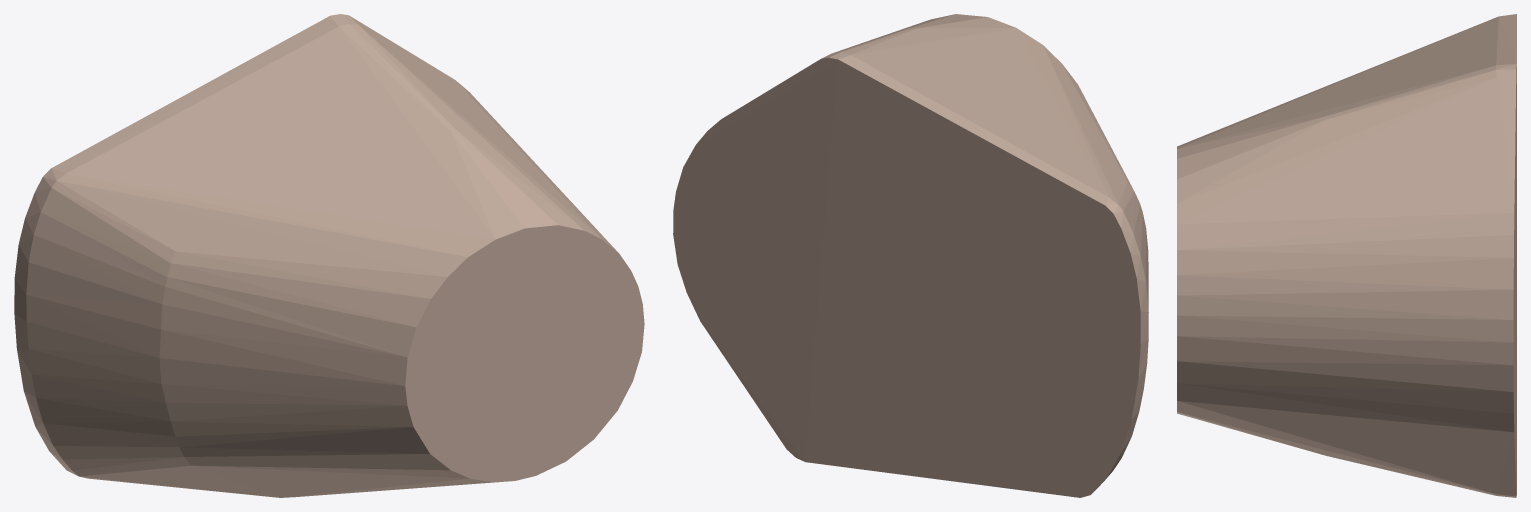
File: dualpanda_Panda_leftArm_coll_1.dae
3 views of the same model, side by side, from view 1: azimuth 30°, elevation 25°; view 2: azimuth 150°, elevation 25°; view 3: azimuth 270°, elevation 25° (orthographic). The views are drawn at different scales.
Visible parts, largest first — view 1: node; view 2: node; view 3: node.
Boxes of the visible parts, bbox=[...] form: node: bbox=[14, 14, 644, 497]; node: bbox=[673, 14, 1148, 497]; node: bbox=[1177, 14, 1516, 497].
Bounding box in the file's own units: 0.2256 × 0.1886 × 0.14.
